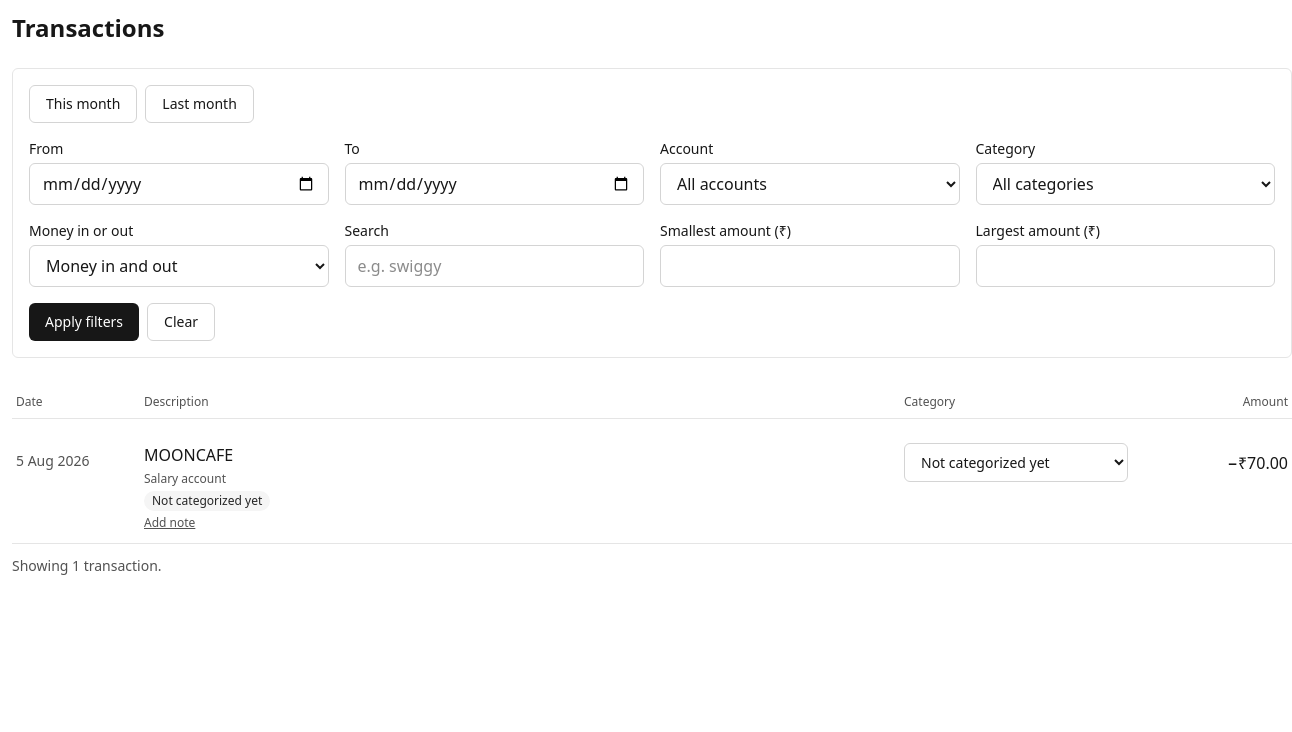
TransactionsView: changing a category › sends nothing on Cancel, and puts the old choice back
Check: the heading "Transactions" is shown, box x1=12 y1=11 x2=164 y2=44
Select "Salary" in the dropdown named "Category for" at (1016, 462), box x1=904 y1=443 x2=1128 y2=482
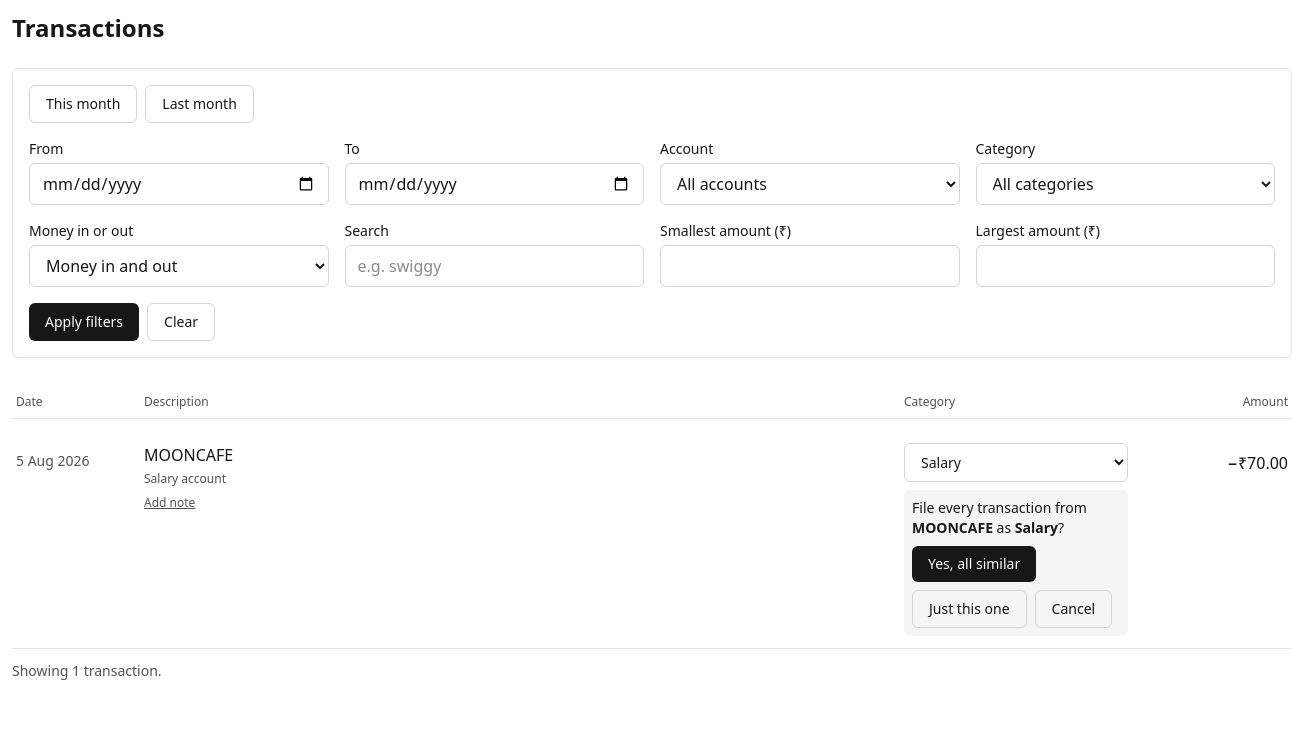
Click the button "Cancel" at (1073, 609), box x1=1035 y1=590 x2=1112 y2=628
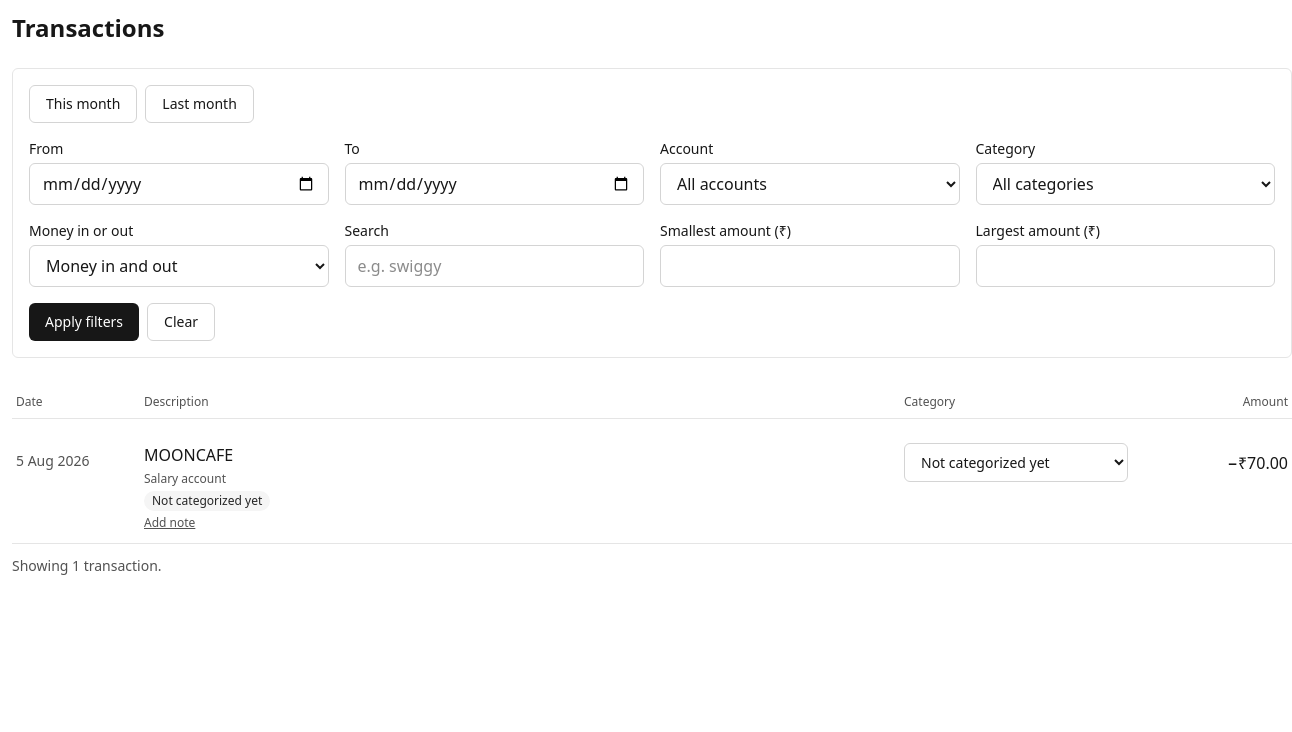
Check: the element "File every" is gone
